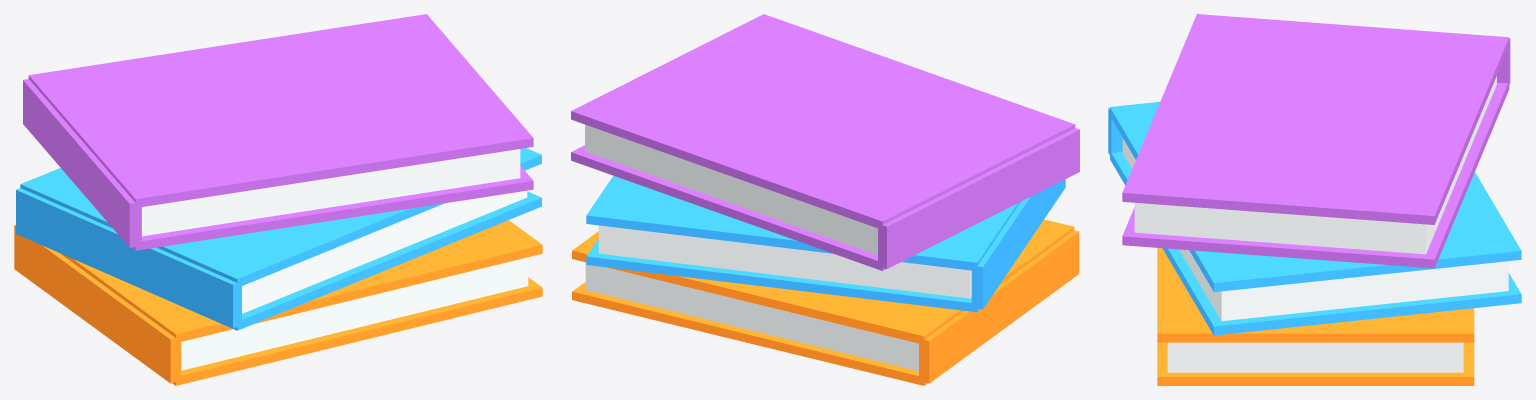
Rendered from books.glb.
3 views of the same model, side by side, from view 1: azimuth 30°, elevation 25°; view 2: azimuth 150°, elevation 25°; view 3: azimuth 270°, elevation 25° (orthographic). The views are drawn at different scales.
Parts seen in each view (by area): view 1: cover2, pages, cover1, cover0; view 2: cover2, pages, cover0, cover1; view 3: cover2, pages, cover1, cover0.
Boxes of the visible parts, <box> form: cover2: <box>23,14,533,250</box>; pages: <box>141,149,528,370</box>; cover1: <box>16,148,541,330</box>; cover0: <box>14,220,542,385</box>; cover2: <box>571,14,1079,270</box>; pages: <box>585,124,971,371</box>; cover0: <box>572,219,1079,385</box>; cover1: <box>586,175,1065,312</box>; cover2: <box>1122,14,1510,268</box>; pages: <box>1122,76,1508,372</box>; cover1: <box>1108,101,1521,335</box>; cover0: <box>1157,248,1474,385</box>.
Size of the model in its own units: 1.42 by 0.564 by 1.17.
